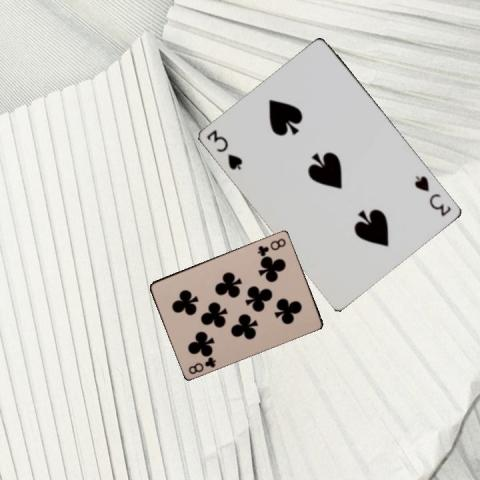3s: (412, 173, 453, 218), (204, 127, 245, 171)
8c: (186, 354, 218, 376), (255, 235, 287, 256)
